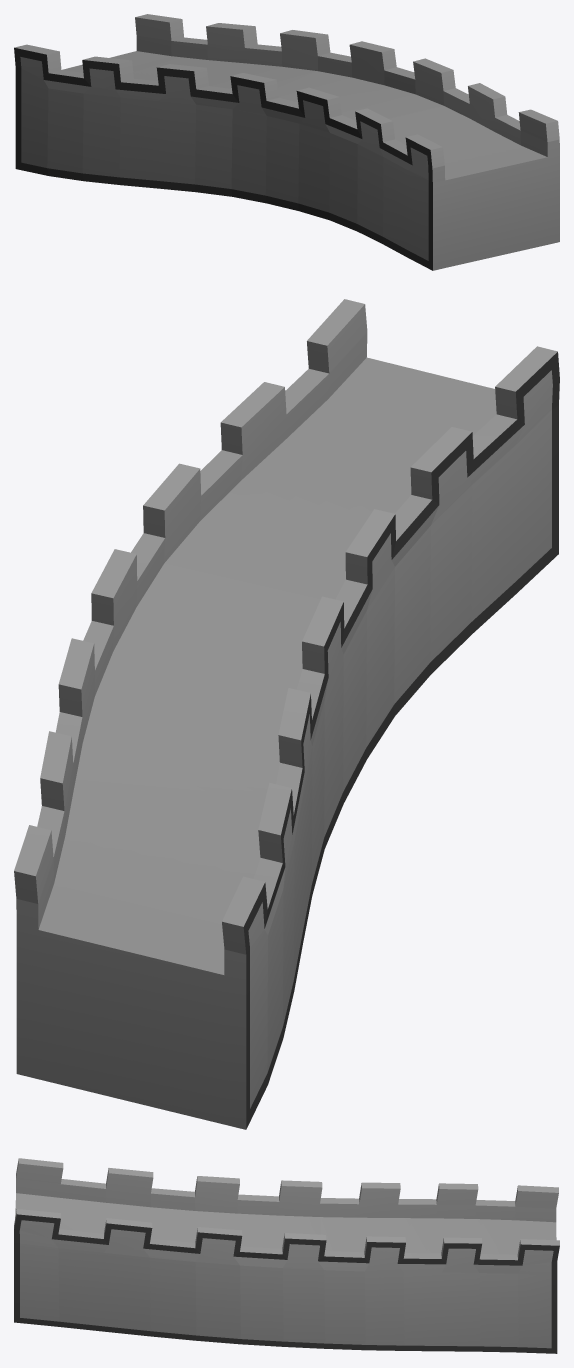
Rendered from stair 2.fbx.
3 views of the same model, one above another, from view 1: azimuth 30°, elevation 25°; view 2: azimuth 150°, elevation 25°; view 3: azimuth 270°, elevation 25° (orthographic). The views are drawn at different scales.
Visible parts, largest first — view 1: Cube.352; view 2: Cube.352; view 3: Cube.352.
Part boxes in pixels (left/top/right/bottom): Cube.352: left=14, top=14, right=559, bottom=270; Cube.352: left=14, top=299, right=559, bottom=1129; Cube.352: left=14, top=1158, right=559, bottom=1353.
Bounding box in the file's own units: 12.98 × 10.69 × 28.1.
1 material, 1 textured.
